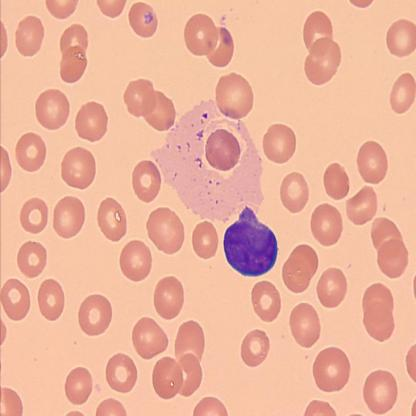Atypical lymphocyte: (152, 95, 279, 278)
